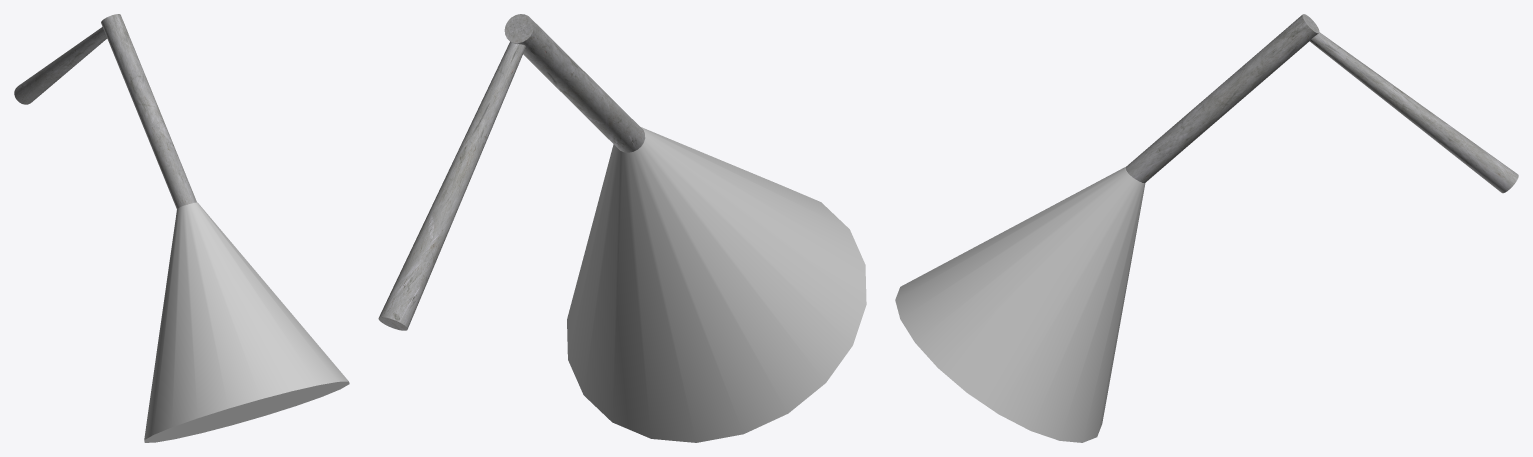
Rendered from ShowerHead.fbx.
The picture shows the model from 3 angles, left to right: view 1: azimuth 30°, elevation 25°; view 2: azimuth 150°, elevation 25°; view 3: azimuth 270°, elevation 25°; orthographic projection. The views are drawn at different scales.
Parts seen in each view (by area): view 1: pCylinder1, pCylinder2, pCylinder3; view 2: pCylinder1, pCylinder3, pCylinder2; view 3: pCylinder1, pCylinder2, pCylinder3.
Boxes of the visible parts, bbox=[...] form: pCylinder1: bbox=[144, 202, 349, 442]; pCylinder2: bbox=[101, 14, 196, 208]; pCylinder3: bbox=[14, 27, 107, 104]; pCylinder1: bbox=[567, 127, 866, 442]; pCylinder3: bbox=[378, 41, 525, 330]; pCylinder2: bbox=[504, 14, 645, 152]; pCylinder1: bbox=[895, 167, 1145, 442]; pCylinder2: bbox=[1125, 14, 1319, 183]; pCylinder3: bbox=[1309, 32, 1518, 193].
Size of the model in its own units: 10 by 18.15 by 25.13.
Materials: 2 (1 with a texture image).
